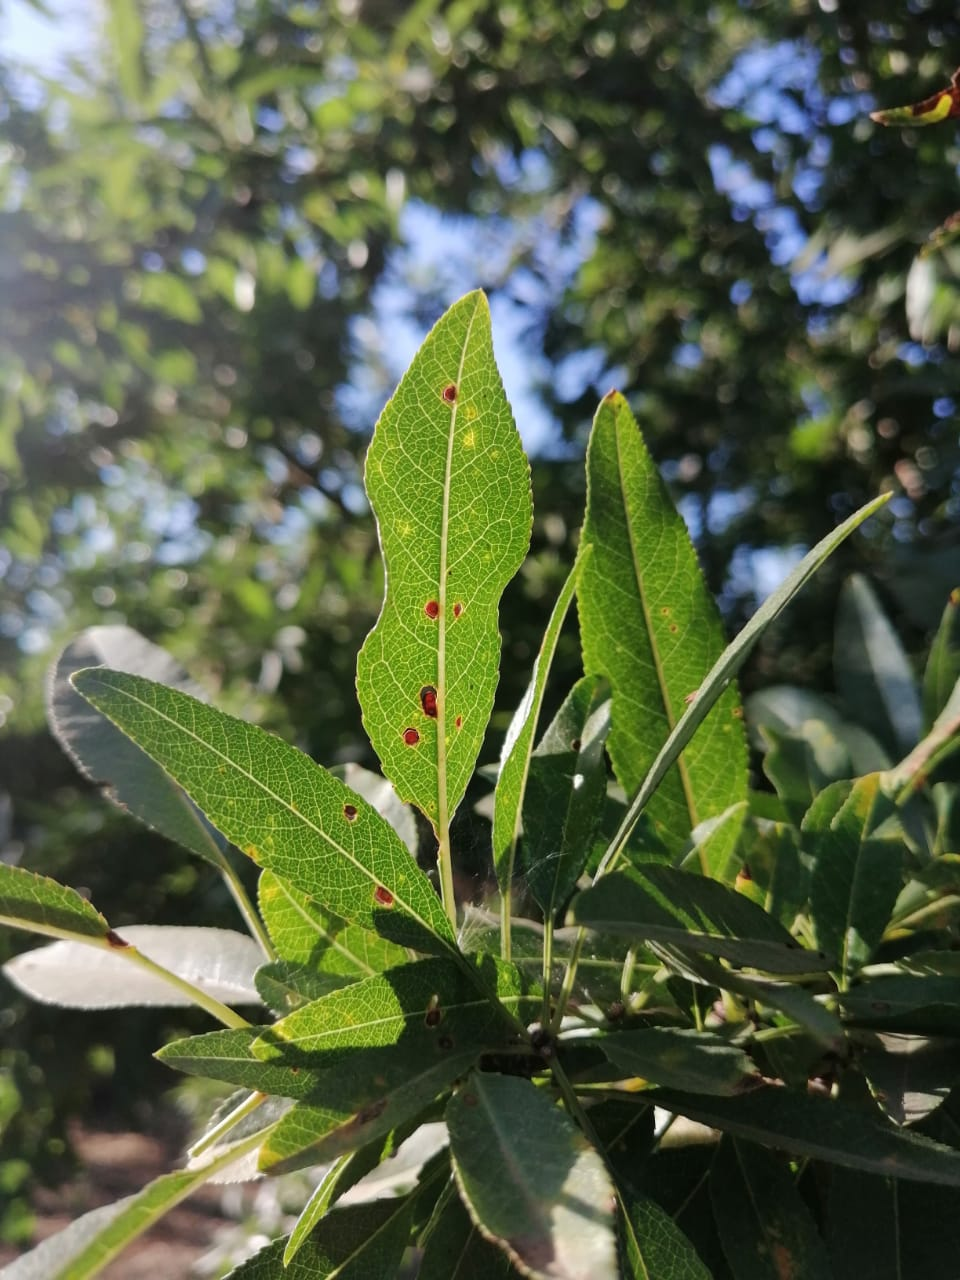coryneum: (67, 665, 459, 958), (355, 285, 536, 835), (572, 388, 752, 879)
